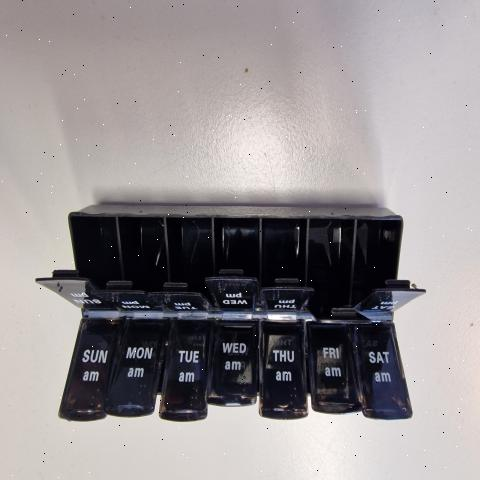Open: (313, 219, 376, 330), (355, 217, 426, 306), (152, 217, 215, 307), (109, 218, 166, 293), (72, 215, 117, 292), (264, 220, 312, 290), (213, 219, 261, 280), (152, 338, 165, 417), (304, 335, 315, 410)
